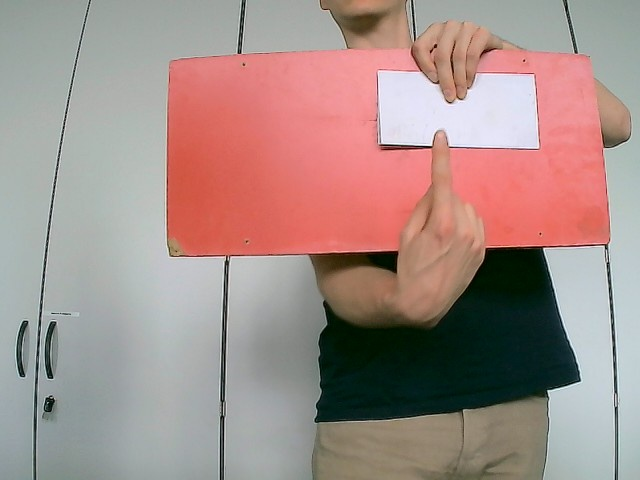no_gesture: (405, 16, 513, 104)
up: (391, 128, 492, 332)
